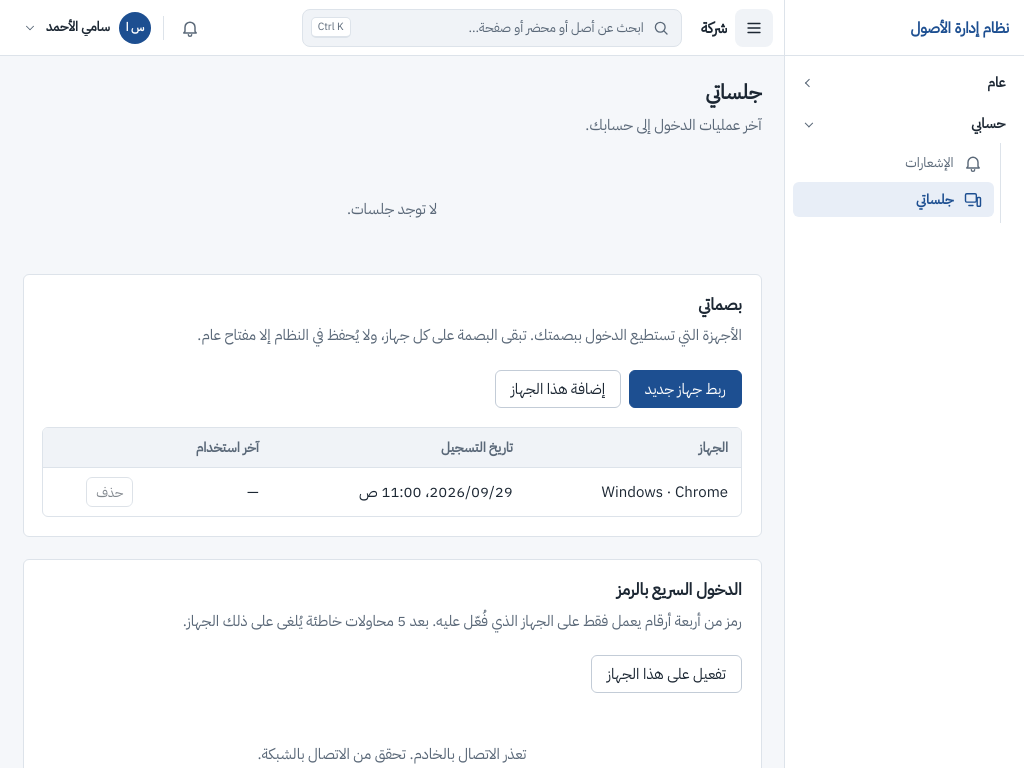
Scenario: My fingerprints (account page) › lists devices, adds this one, and removes another after confirmation
The width and height of the screenshot is (1024, 768).
Expected: the text "Windows · Chrome" is shown, [526, 468, 741, 516]
Expected: the button "حذف" is disabled, [86, 477, 133, 507]
Click the button "إضافة هذا الجهاز" at (558, 389), box [495, 370, 621, 408]
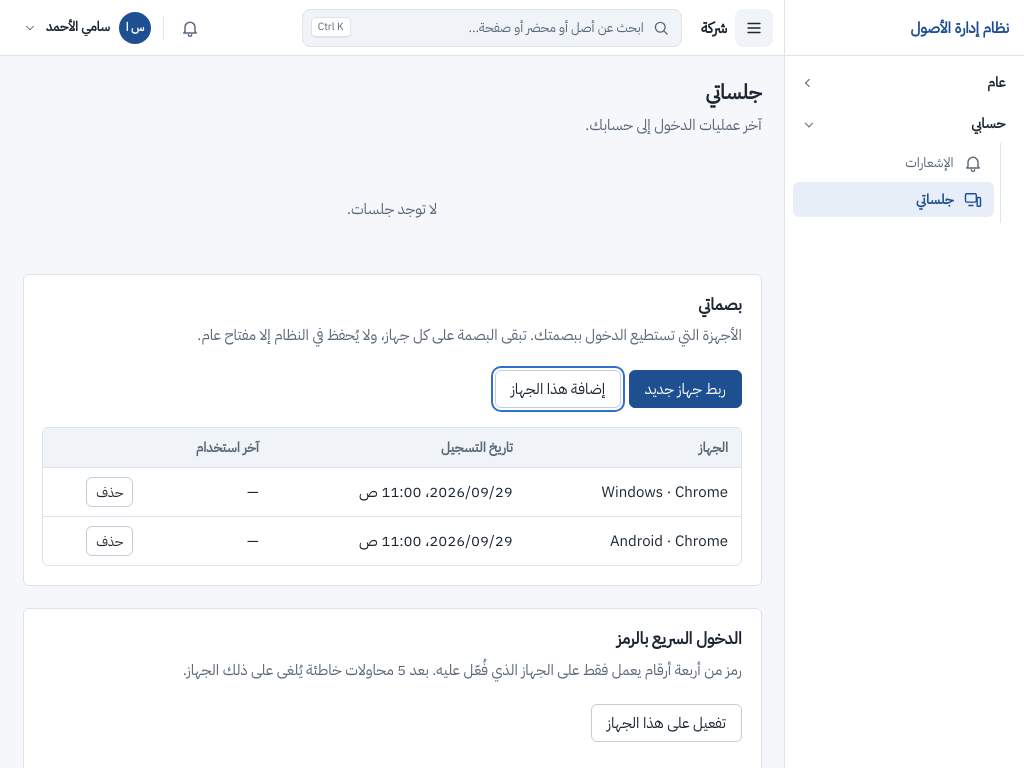
Expected: the text "Android · Chrome" is shown, [526, 517, 741, 565]
Click the button "حذف" in the row of "Windows · Chrome" at (110, 492), box [86, 477, 133, 507]
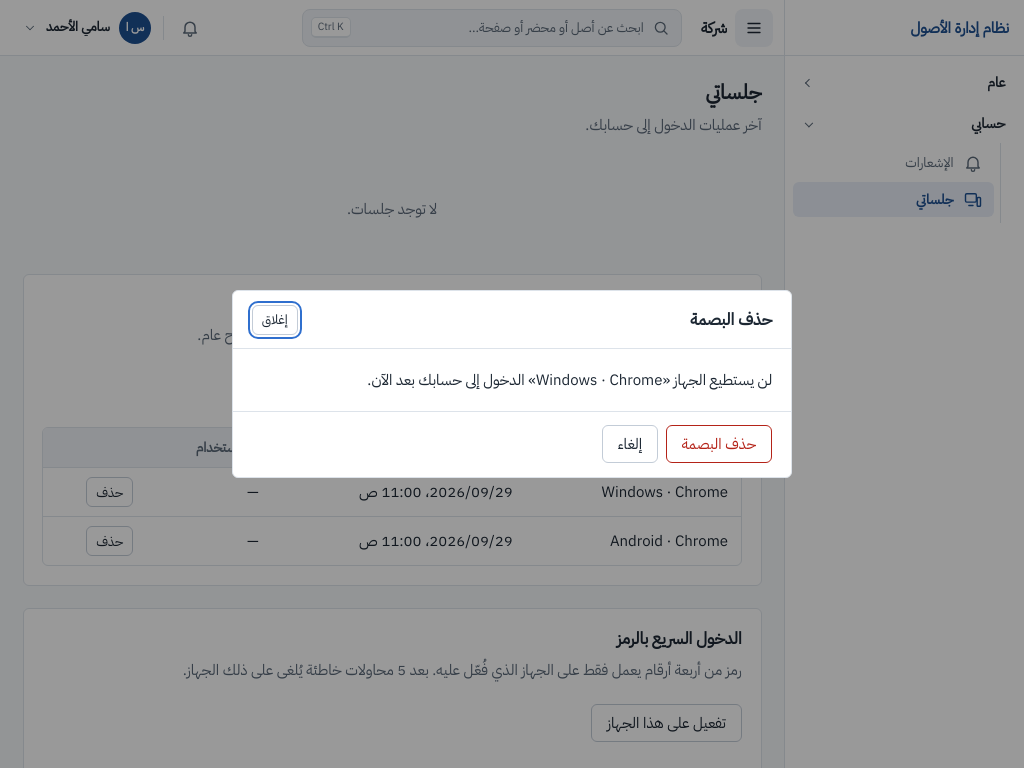
Click the button "حذف البصمة" at (719, 444), box [666, 425, 772, 463]
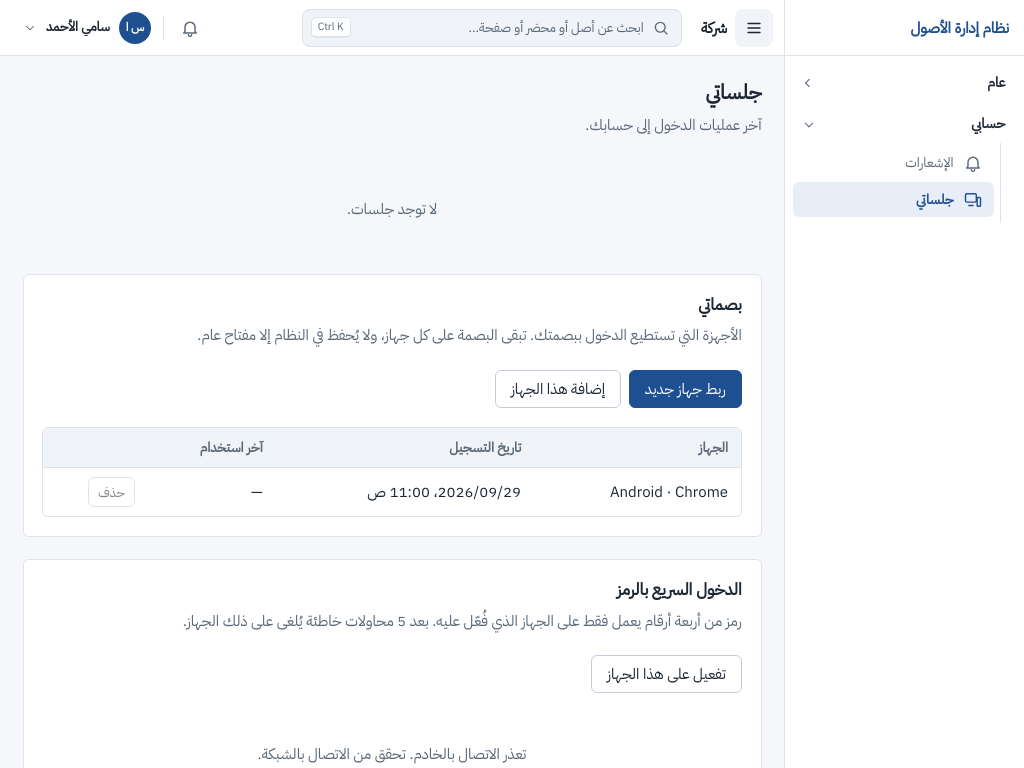
Expected: the text "Windows · Chrome" is gone
